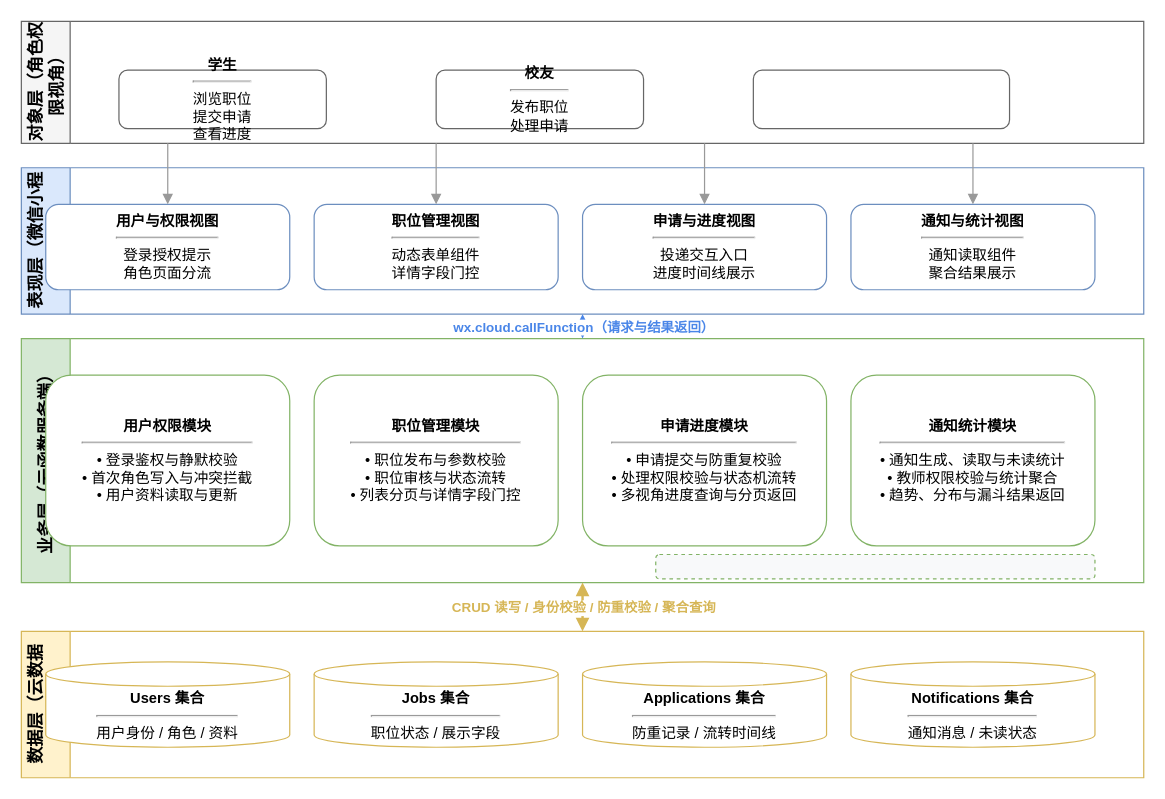
This 1165x799 diagram has some shape labels left out. The shapes that lost their labels are listed below. From the top down, each one's centre as x and y in pixels, then its label:
At (x=881, y=99): "教师 / 管理员 审核职位 统计观察".
At (x=875, y=566): "角色策略：teacher/admin 由后台分配，普通前端不自助选择".
